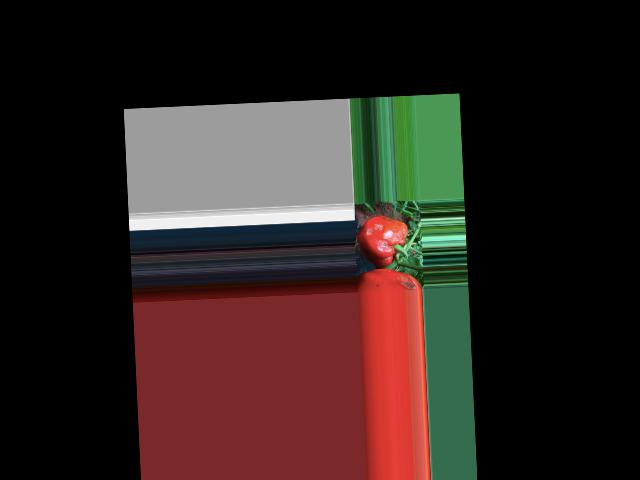bell_pepper: (353, 216, 414, 267)
